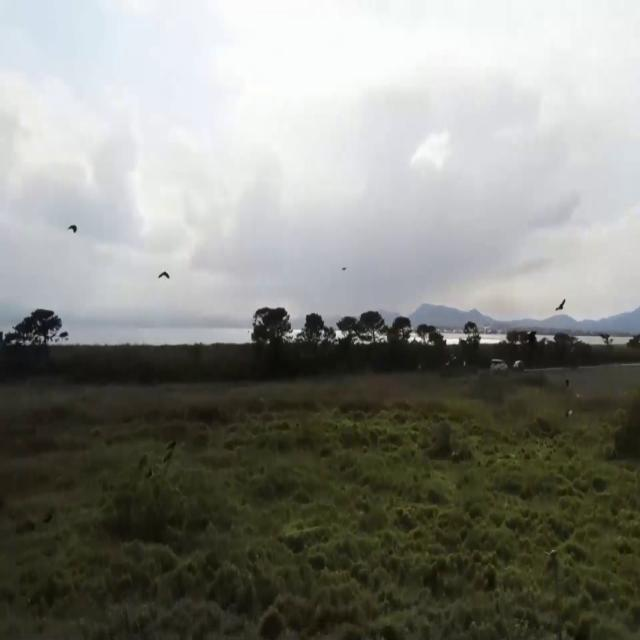bird: (158, 261, 170, 291), (554, 290, 566, 319), (67, 215, 78, 244)
